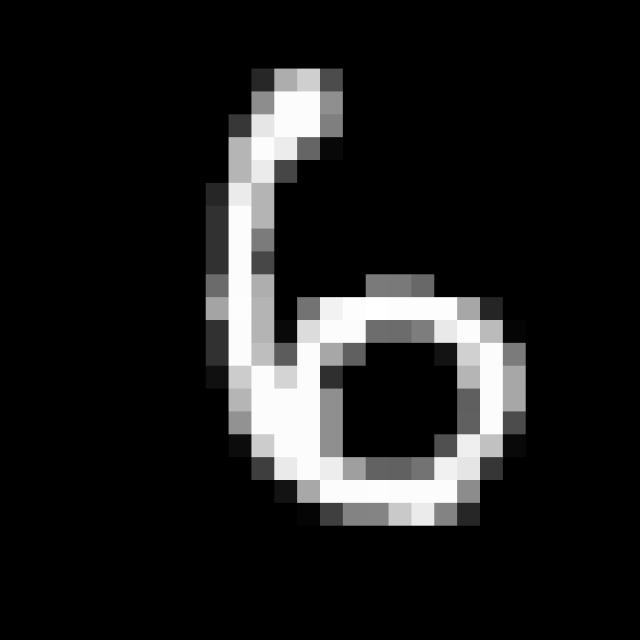six -6-: (203, 55, 538, 540)
